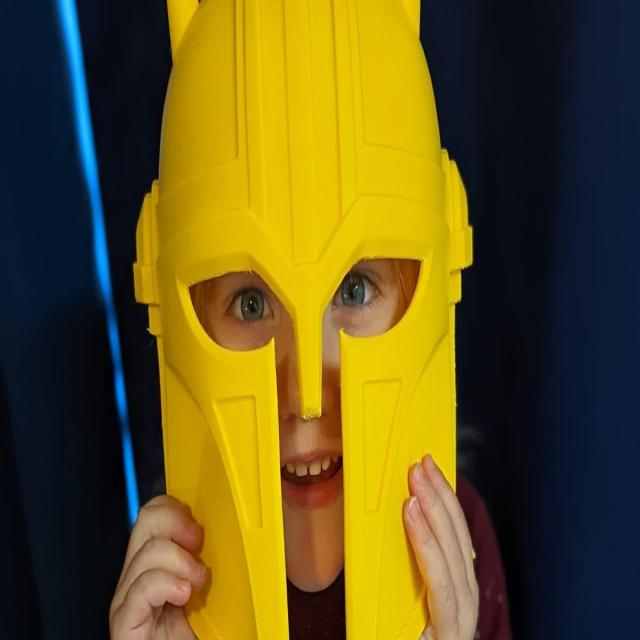Without deffect: (133, 0, 474, 638)
